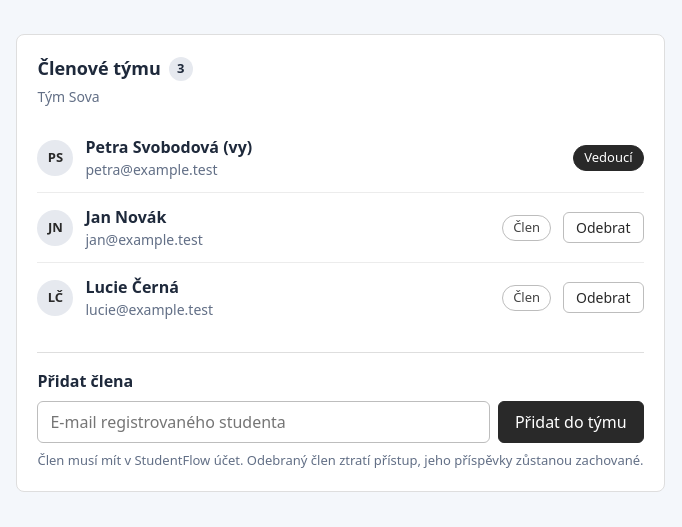
ProjectMembers removal › shows 404 MEMBER_NOT_FOUND and reloads, because the team changed meanwhile
Click the button "Odebrat" in the row of "JN" at (603, 228), box 563,212 -> 644,243
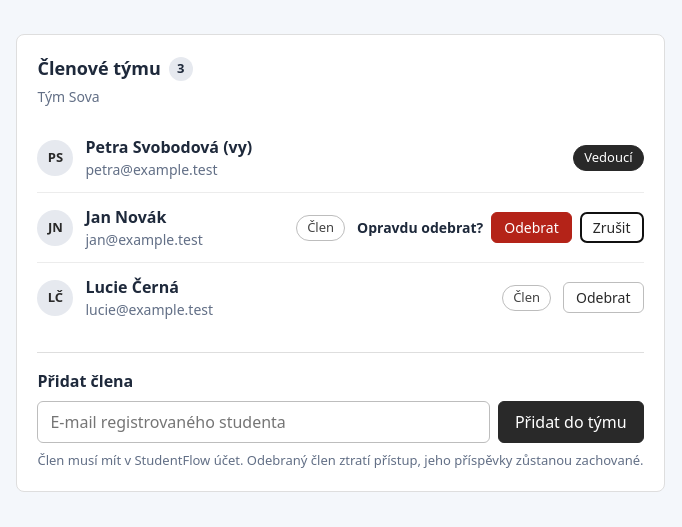
Click the button "Odebrat" next to "Opravdu odebrat?" at (531, 228), box 491,212 -> 572,243
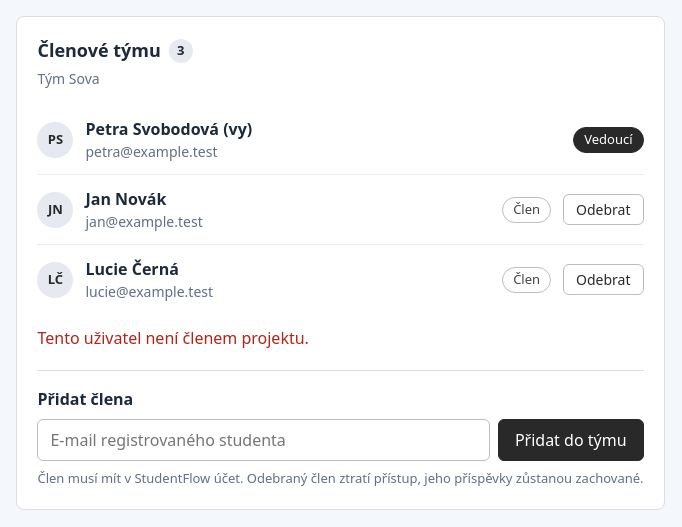
Now the message reads "Tento uživatel není členem projektu.", box 38,327 -> 309,349
